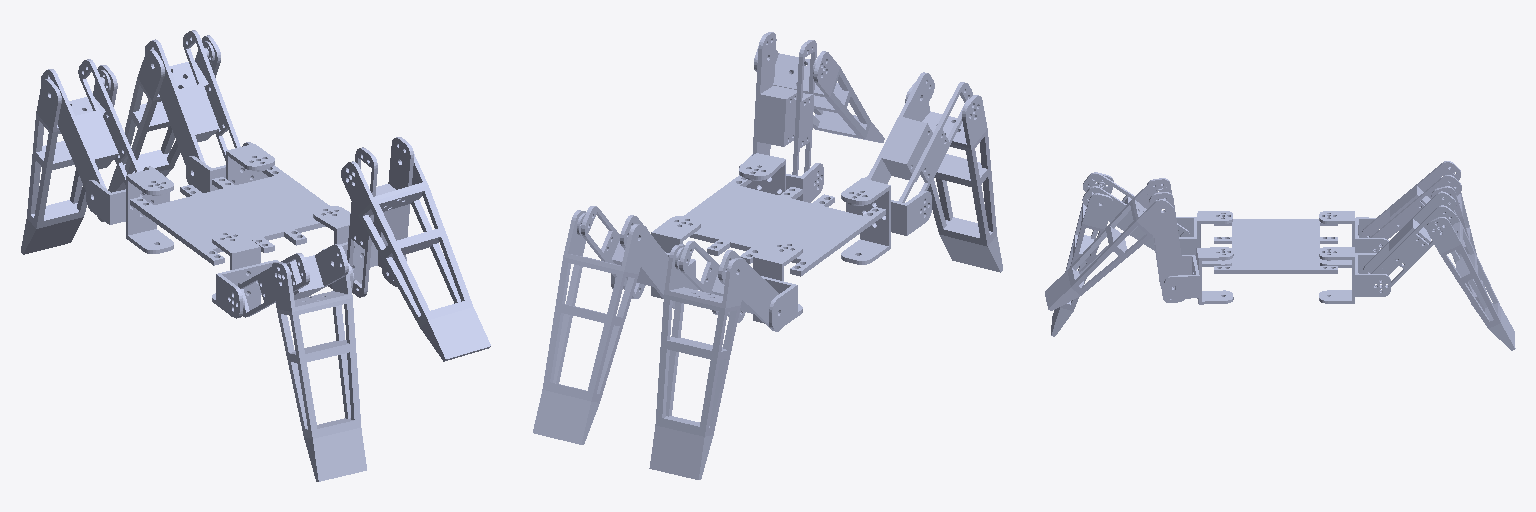
URDF robot description (spyder):
<?xml version="1.0" encoding="utf-8"?>
<!-- This URDF was automatically created by SolidWorks to URDF Exporter! Originally created by Stephen Brawner (brawner@gmail.com) 
     Commit Version: 1.6.0-4-g7f85cfe  Build Version: 1.6.7995.38578
     For more information, please see http://wiki.ros.org/sw_urdf_exporter -->
<robot
  name="spyder">
  <link
    name="base_link">
    <inertial>
      <origin
        xyz="3.3307E-16 -9.5132E-15 -0.0025"
        rpy="0 0 0" />
      <mass
        value="0.088858" />
      <inertia
        ixx="0.00011246"
        ixy="-1.4773E-20"
        ixz="-9.5488E-20"
        iyy="0.00017229"
        iyz="-1.4021E-20"
        izz="0.00028438" />
    </inertial>
    <visual>
      <origin
        xyz="0 0 0"
        rpy="0 0 0" />
      <geometry>
        <mesh
          filename="package://spyder/meshes/base_link.STL" />
      </geometry>
      <material
        name="PLA">
        <color
          rgba="0.79216 0.81961 0.93333 1" />
      </material>
    </visual>
    <collision>
      <origin
        xyz="0 0 0"
        rpy="0 0 0" />
      <geometry>
        <mesh
          filename="package://spyder/meshes/base_link.STL" />
      </geometry>
    </collision>
  </link>
  <link
    name="hip_RB_link">
    <inertial>
      <origin
        xyz="-0.00025475 0.031162 0.031073"
        rpy="0 0 0" />
      <mass
        value="0.032853" />
      <inertia
        ixx="1.704E-05"
        ixy="-2.4444E-07"
        ixz="-2.49E-09"
        iyy="2.2641E-05"
        iyz="1.5339E-07"
        izz="1.7054E-05" />
    </inertial>
    <visual>
      <origin
        xyz="0 0 0"
        rpy="0 0 0" />
      <geometry>
        <mesh
          filename="package://spyder/meshes/hip_RB_link.STL" />
      </geometry>
      <material
        name="PLA">
        <color
          rgba="0.79216 0.81961 0.93333 1" />
      </material>
    </visual>
    <collision>
      <origin
        xyz="0 0 0"
        rpy="0 0 0" />
      <geometry>
        <mesh
          filename="package://spyder/meshes/hip_RB_link.STL" />
      </geometry>
    </collision>
  </link>
  <joint
    name="hip_RB_joint"
    type="revolute">
    <origin
      xyz="-0.0528 0.065 0.014"
      rpy="3.1416 0 3.1416" />
    <parent
      link="base_link" />
    <child
      link="hip_RB_link" />
    <axis
      xyz="0 0 1" />
    <limit
      lower="-1.57"
      upper="1.57"
      effort="0.922"
      velocity="6.16" />
  </joint>
  <link
    name="knee_RB_link">
    <inertial>
      <origin
        xyz="0.03519 0.038386 0.041687"
        rpy="0 0 0" />
      <mass
        value="0.062595" />
      <inertia
        ixx="3.5399E-05"
        ixy="-2.3801E-05"
        ixz="-1.3249E-20"
        iyy="3.1256E-05"
        iyz="-1.4786E-20"
        izz="5.7615E-05" />
    </inertial>
    <visual>
      <origin
        xyz="0 0 0"
        rpy="0 0 0" />
      <geometry>
        <mesh
          filename="package://spyder/meshes/knee_RB_link.STL" />
      </geometry>
      <material
        name="PLA">
        <color
          rgba="0.79216 0.81961 0.93333 1" />
      </material>
    </visual>
    <collision>
      <origin
        xyz="0 0 0"
        rpy="0 0 0" />
      <geometry>
        <mesh
          filename="package://spyder/meshes/knee_RB_link.STL" />
      </geometry>
    </collision>
  </link>
  <joint
    name="knee_RB_joint"
    type="revolute">
    <origin
      xyz="-0.032535 0.06348 0.0315"
      rpy="0.016231 1.5708 0" />
    <parent
      link="hip_RB_link" />
    <child
      link="knee_RB_link" />
    <axis
      xyz="0 0 1" />
    <limit
      lower="-1.57"
      upper="1.57"
      effort="0.922"
      velocity="6.16" />
  </joint>
  <link
    name="ankle_RB_link">
    <inertial>
      <origin
        xyz="-0.091638 0.027064 0.031328"
        rpy="0 0 0" />
      <mass
        value="0.081055" />
      <inertia
        ixx="5.052E-05"
        ixy="4.5682E-05"
        ixz="-1.4972E-07"
        iyy="0.00018353"
        iyz="4.3099E-08"
        izz="0.00016991" />
    </inertial>
    <visual>
      <origin
        xyz="0 0 0"
        rpy="0 0 0" />
      <geometry>
        <mesh
          filename="package://spyder/meshes/ankle_RB_link.STL" />
      </geometry>
      <material
        name="PLA">
        <color
          rgba="0.79216 0.81961 0.93333 1" />
      </material>
    </visual>
    <collision>
      <origin
        xyz="0 0 0"
        rpy="0 0 0" />
      <geometry>
        <mesh
          filename="package://spyder/meshes/ankle_RB_link.STL" />
      </geometry>
    </collision>
  </link>
  <joint
    name="ankle_RB_joint"
    type="revolute">
    <origin
      xyz="0.07136 0.077841 0"
      rpy="0 0 0" />
    <parent
      link="knee_RB_link" />
    <child
      link="ankle_RB_link" />
    <axis
      xyz="0 0 1" />
    <limit
      lower="-1.57"
      upper="1.57"
      effort="0.922"
      velocity="6.16" />
  </joint>
  <link
    name="hip_RF_link">
    <inertial>
      <origin
        xyz="0.00043179 0.03116 0.031073"
        rpy="0 0 0" />
      <mass
        value="0.032853" />
      <inertia
        ixx="1.7032E-05"
        ixy="-1.2084E-07"
        ixz="8.8973E-10"
        iyy="2.2649E-05"
        iyz="1.5341E-07"
        izz="1.7054E-05" />
    </inertial>
    <visual>
      <origin
        xyz="0 0 0"
        rpy="0 0 0" />
      <geometry>
        <mesh
          filename="package://spyder/meshes/hip_RF_link.STL" />
      </geometry>
      <material
        name="PLA">
        <color
          rgba="0.79216 0.81961 0.93333 1" />
      </material>
    </visual>
    <collision>
      <origin
        xyz="0 0 0"
        rpy="0 0 0" />
      <geometry>
        <mesh
          filename="package://spyder/meshes/hip_RF_link.STL" />
      </geometry>
    </collision>
  </link>
  <joint
    name="hip_RF_joint"
    type="revolute">
    <origin
      xyz="0.0528000000000004 0.0649999999999906 0.014"
      rpy="3.14159265358979 0 3.14159265358979" />
    <parent
      link="base_link" />
    <child
      link="hip_RF_link" />
    <axis
      xyz="0 0 1" />
    <limit
      lower="-1.57"
      upper="1.57"
      effort="0.922"
      velocity="6.16" />
  </joint>
  <link
    name="knee_RF_link">
    <inertial>
      <origin
        xyz="0.038535 0.035025 0.041687"
        rpy="0 0 0" />
      <mass
        value="0.062595" />
      <inertia
        ixx="3.1052E-05"
        ixy="-2.3782E-05"
        ixz="-7.4257E-20"
        iyy="3.5602E-05"
        iyz="-6.7396E-20"
        izz="5.7615E-05" />
    </inertial>
    <visual>
      <origin
        xyz="0 0 0"
        rpy="0 0 0" />
      <geometry>
        <mesh
          filename="package://spyder/meshes/knee_RF_link.STL" />
      </geometry>
      <material
        name="PLA">
        <color
          rgba="0.79216 0.81961 0.93333 1" />
      </material>
    </visual>
    <collision>
      <origin
        xyz="0 0 0"
        rpy="0 0 0" />
      <geometry>
        <mesh
          filename="package://spyder/meshes/knee_RF_link.STL" />
      </geometry>
    </collision>
  </link>
  <joint
    name="knee_RF_joint"
    type="revolute">
    <origin
      xyz="-0.031128 0.064182 0.0315"
      rpy="0.0057996 1.5708 0" />
    <parent
      link="hip_RF_link" />
    <child
      link="knee_RF_link" />
    <axis
      xyz="0 0 1" />
    <limit
      lower="-1.57"
      upper="1.57"
      effort="0.922"
      velocity="6.16" />
  </joint>
  <link
    name="ankle_RF_link">
    <inertial>
      <origin
        xyz="-0.08502 0.043606 0.031328"
        rpy="0 0 0" />
      <mass
        value="0.081055" />
      <inertia
        ixx="7.1771E-05"
        ixy="6.6796E-05"
        ixz="-1.3911E-07"
        iyy="0.00016227"
        iyz="7.0145E-08"
        izz="0.00016991" />
    </inertial>
    <visual>
      <origin
        xyz="0 0 0"
        rpy="0 0 0" />
      <geometry>
        <mesh
          filename="package://spyder/meshes/ankle_RF_link.STL" />
      </geometry>
      <material
        name="PLA">
        <color
          rgba="0.79216 0.81961 0.93333 1" />
      </material>
    </visual>
    <collision>
      <origin
        xyz="0 0 0"
        rpy="0 0 0" />
      <geometry>
        <mesh
          filename="package://spyder/meshes/ankle_RF_link.STL" />
      </geometry>
    </collision>
  </link>
  <joint
    name="ankle_RF_joint"
    type="revolute">
    <origin
      xyz="0.078145 0.071027 0"
      rpy="0 0 0" />
    <parent
      link="knee_RF_link" />
    <child
      link="ankle_RF_link" />
    <axis
      xyz="0 0 1" />
    <limit
      lower="-1.57"
      upper="1.57"
      effort="0.922"
      velocity="6.16" />
  </joint>
  <link
    name="hip_LB_link">
    <inertial>
      <origin
        xyz="-0.00018488 0.031163 0.031073"
        rpy="0 0 0" />
      <mass
        value="0.032853" />
      <inertia
        ixx="1.7039E-05"
        ixy="-2.3188E-07"
        ixz="-2.146E-09"
        iyy="2.2642E-05"
        iyz="1.534E-07"
        izz="1.7054E-05" />
    </inertial>
    <visual>
      <origin
        xyz="0 0 0"
        rpy="0 0 0" />
      <geometry>
        <mesh
          filename="package://spyder/meshes/hip_LB_link.STL" />
      </geometry>
      <material
        name="PLA">
        <color
          rgba="0.79216 0.81961 0.93333 1" />
      </material>
    </visual>
    <collision>
      <origin
        xyz="0 0 0"
        rpy="0 0 0" />
      <geometry>
        <mesh
          filename="package://spyder/meshes/hip_LB_link.STL" />
      </geometry>
    </collision>
  </link>
  <joint
    name="hip_LB_joint"
    type="revolute">
    <origin
      xyz="-0.0528 -0.065 0.014"
      rpy="3.1416 0 0" />
    <parent
      link="base_link" />
    <child
      link="hip_LB_link" />
    <axis
      xyz="0 0 1" />
    <limit
      lower="-1.57"
      upper="1.57"
      effort="0.922"
      velocity="6.16" />
  </joint>
  <link
    name="knee_LB_link">
    <inertial>
      <origin
        xyz="0.03006 0.042522 0.041687"
        rpy="0 0 0" />
      <mass
        value="0.062595" />
      <inertia
        ixx="4.1296E-05"
        ixy="-2.2523E-05"
        ixz="-5.8024E-21"
        iyy="2.5359E-05"
        iyz="-7.1725E-21"
        izz="5.7615E-05" />
    </inertial>
    <visual>
      <origin
        xyz="0 0 0"
        rpy="0 0 0" />
      <geometry>
        <mesh
          filename="package://spyder/meshes/knee_LB_link.STL" />
      </geometry>
      <material
        name="PLA">
        <color
          rgba="0.79216 0.81961 0.93333 1" />
      </material>
    </visual>
    <collision>
      <origin
        xyz="0 0 0"
        rpy="0 0 0" />
      <geometry>
        <mesh
          filename="package://spyder/meshes/knee_LB_link.STL" />
      </geometry>
    </collision>
  </link>
  <joint
    name="knee_LB_joint"
    type="revolute">
    <origin
      xyz="-0.032392 0.063553 0.0315"
      rpy="3.1276 1.5708 3.1416" />
    <parent
      link="hip_LB_link" />
    <child
      link="knee_LB_link" />
    <axis
      xyz="0 0 1" />
    <limit
      lower="-1.57"
      upper="1.57"
      effort="0.922"
      velocity="6.16" />
  </joint>
  <link
    name="ankle_LB_link">
    <inertial>
      <origin
        xyz="-0.091638 0.027064 0.031328"
        rpy="0 0 0" />
      <mass
        value="0.081055" />
      <inertia
        ixx="5.052E-05"
        ixy="4.5682E-05"
        ixz="-1.4972E-07"
        iyy="0.00018353"
        iyz="4.3099E-08"
        izz="0.00016991" />
    </inertial>
    <visual>
      <origin
        xyz="0 0 0"
        rpy="0 0 0" />
      <geometry>
        <mesh
          filename="package://spyder/meshes/ankle_LB_link.STL" />
      </geometry>
      <material
        name="PLA">
        <color
          rgba="0.79216 0.81961 0.93333 1" />
      </material>
    </visual>
    <collision>
      <origin
        xyz="0 0 0"
        rpy="0 0 0" />
      <geometry>
        <mesh
          filename="package://spyder/meshes/ankle_LB_link.STL" />
      </geometry>
    </collision>
  </link>
  <joint
    name="ankle_LB_joint"
    type="revolute">
    <origin
      xyz="0.060958 0.086229 0"
      rpy="0 0 0" />
    <parent
      link="knee_LB_link" />
    <child
      link="ankle_LB_link" />
    <axis
      xyz="0 0 1" />
    <limit
      lower="-1.57"
      upper="1.57"
      effort="0.922"
      velocity="6.16" />
  </joint>
  <link
    name="hip_LF_link">
    <inertial>
      <origin
        xyz="0.0029804 0.03102 0.031073"
        rpy="0 0 0" />
      <mass
        value="0.032853" />
      <inertia
        ixx="1.705E-05"
        ixy="3.3895E-07"
        ixz="1.3441E-08"
        iyy="2.2631E-05"
        iyz="1.5282E-07"
        izz="1.7054E-05" />
    </inertial>
    <visual>
      <origin
        xyz="0 0 0"
        rpy="0 0 0" />
      <geometry>
        <mesh
          filename="package://spyder/meshes/hip_LF_link.STL" />
      </geometry>
      <material
        name="PLA">
        <color
          rgba="0.79216 0.81961 0.93333 1" />
      </material>
    </visual>
    <collision>
      <origin
        xyz="0 0 0"
        rpy="0 0 0" />
      <geometry>
        <mesh
          filename="package://spyder/meshes/hip_LF_link.STL" />
      </geometry>
    </collision>
  </link>
  <joint
    name="hip_LF_joint"
    type="revolute">
    <origin
      xyz="0.0528 -0.065 0.014"
      rpy="3.1416 0 0" />
    <parent
      link="base_link" />
    <child
      link="hip_LF_link" />
    <axis
      xyz="0 0 1" />
    <limit
      lower="-1.57"
      upper="1.57"
      effort="0.922"
      velocity="6.16" />
  </joint>
  <link
    name="knee_LF_link">
    <inertial>
      <origin
        xyz="0.051669 0.0064834 0.041687"
        rpy="0 0 0" />
      <mass
        value="0.062595" />
      <inertia
        ixx="1.0177E-05"
        ixy="-5.9027E-06"
        ixz="-9.5643E-20"
        iyy="5.6478E-05"
        iyz="-1.2966E-20"
        izz="5.7615E-05" />
    </inertial>
    <visual>
      <origin
        xyz="0 0 0"
        rpy="0 0 0" />
      <geometry>
        <mesh
          filename="package://spyder/meshes/knee_LF_link.STL" />
      </geometry>
      <material
        name="PLA">
        <color
          rgba="0.79216 0.81961 0.93333 1" />
      </material>
    </visual>
    <collision>
      <origin
        xyz="0 0 0"
        rpy="0 0 0" />
      <geometry>
        <mesh
          filename="package://spyder/meshes/knee_LF_link.STL" />
      </geometry>
    </collision>
  </link>
  <joint
    name="knee_LF_joint"
    type="revolute">
    <origin
      xyz="-0.025771 0.066514 0.0315"
      rpy="0.087728 1.5708 0" />
    <parent
      link="hip_LF_link" />
    <child
      link="knee_LF_link" />
    <axis
      xyz="0 0 -1" />
    <limit
      lower="-1.57"
      upper="1.57"
      effort="0.922"
      velocity="6.16" />
  </joint>
  <link
    name="ankle_LF_link">
    <inertial>
      <origin
        xyz="-0.067225 0.067902 0.031328"
        rpy="0 0 0" />
      <mass
        value="0.081055" />
      <inertia
        ixx="0.00012005"
        ixy="8.0624E-05"
        ixz="-1.1037E-07"
        iyy="0.00011399"
        iyz="1.0996E-07"
        izz="0.00016991" />
    </inertial>
    <visual>
      <origin
        xyz="0 0 0"
        rpy="0 0 0" />
      <geometry>
        <mesh
          filename="package://spyder/meshes/ankle_LF_link.STL" />
      </geometry>
      <material
        name="">
        <color
          rgba="0.79216 0.81961 0.93333 1" />
      </material>
    </visual>
    <collision>
      <origin
        xyz="0 0 0"
        rpy="0 0 0" />
      <geometry>
        <mesh
          filename="package://spyder/meshes/ankle_LF_link.STL" />
      </geometry>
    </collision>
  </link>
  <joint
    name="ankle_LF_joint"
    type="revolute">
    <origin
      xyz="0.10478 0.013147 0"
      rpy="0 0 0" />
    <parent
      link="knee_LF_link" />
    <child
      link="ankle_LF_link" />
    <axis
      xyz="0 0 1" />
    <limit
      lower="-1.57"
      upper="1.57"
      effort="0.922"
      velocity="6.16" />
  </joint>
</robot>

--- Render facts (derived) ---
Views: 3 orthographic renders of the robot side by side, from view 1: azimuth 30°, elevation 25°; view 2: azimuth 150°, elevation 25°; view 3: azimuth 270°, elevation 25°.
Robot: spyder — 13 links, 12 joints (12 revolute); root link base_link; default pose: every joint at zero.
Links seen in each view (by area): view 1: ankle_LF_link, ankle_LB_link, base_link, ankle_RB_link, ankle_RF_link, knee_RF_link, knee_RB_link, hip_RB_link, knee_LF_link, hip_LB_link, knee_LB_link, hip_RF_link (+1 smaller); view 2: ankle_RB_link, ankle_RF_link, base_link, ankle_LB_link, knee_LB_link, knee_LF_link, ankle_LF_link, hip_LB_link, knee_RF_link, knee_RB_link, hip_RB_link, hip_LF_link (+1 smaller); view 3: base_link, ankle_LF_link, ankle_RF_link, knee_RF_link, knee_RB_link, ankle_LB_link, hip_LF_link, hip_RF_link, knee_LF_link, hip_RB_link, hip_LB_link, knee_LB_link (+1 smaller).
Boxes of the visible links, box(x1,y1,x2,y2) form: ankle_LF_link: box(341, 154, 490, 361); ankle_LB_link: box(271, 254, 366, 481); base_link: box(130, 165, 329, 265); ankle_RB_link: box(21, 65, 117, 254); ankle_RF_link: box(108, 35, 220, 192); knee_RF_link: box(145, 30, 240, 164); knee_RB_link: box(41, 59, 140, 221); hip_RB_link: box(86, 166, 173, 253); knee_LF_link: box(347, 137, 413, 297); hip_LB_link: box(212, 231, 278, 318); knee_LB_link: box(238, 244, 348, 317); hip_RF_link: box(186, 142, 274, 192); ankle_RB_link: box(649, 244, 745, 479); ankle_RF_link: box(533, 210, 647, 444); base_link: box(684, 175, 885, 276); ankle_LB_link: box(905, 82, 1002, 272); knee_LB_link: box(867, 72, 972, 202); knee_LF_link: box(752, 32, 816, 175); ankle_LF_link: box(754, 46, 884, 142); hip_LB_link: box(841, 176, 931, 264); knee_RF_link: box(581, 206, 674, 308); knee_RB_link: box(679, 241, 782, 331); hip_RB_link: box(712, 241, 802, 329); hip_LF_link: box(739, 153, 823, 202); base_link: box(1214, 219, 1337, 273); ankle_LF_link: box(1045, 183, 1174, 310); ankle_RF_link: box(1427, 197, 1515, 350); knee_RF_link: box(1363, 192, 1456, 291); knee_RB_link: box(1362, 161, 1461, 250); ankle_LB_link: box(1051, 173, 1113, 336); hip_LF_link: box(1164, 247, 1233, 304); hip_RF_link: box(1319, 247, 1390, 303); knee_LF_link: box(1147, 178, 1184, 302); hip_RB_link: box(1319, 211, 1388, 267); hip_LB_link: box(1176, 211, 1232, 266); knee_LB_link: box(1082, 172, 1189, 250).
Size in the robot's own frame: 0.1838 by 0.5794 by 0.25 metres.
13 mesh visuals loaded from 13 distinct referenced files (13 binary STL).
